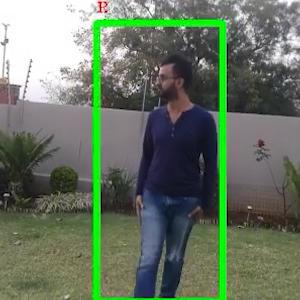follow: (115, 28, 226, 293)
